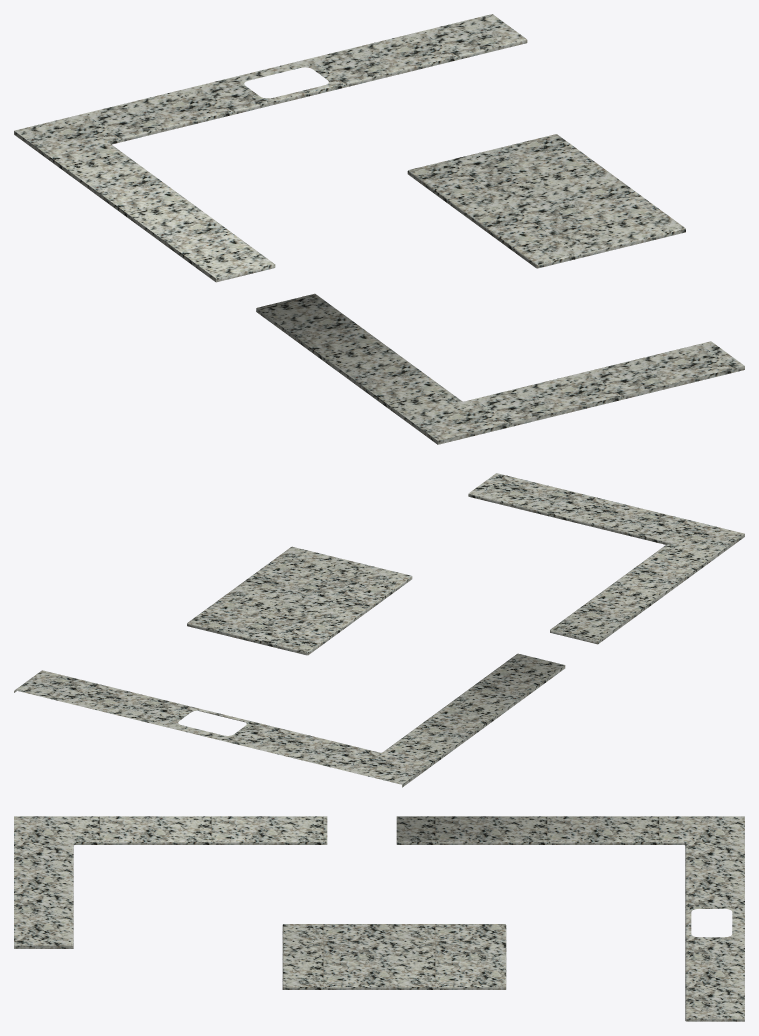
The model's file is Countertops_GraniteValleNevado.glb.
3 views of the same model, one above another, from view 1: azimuth 30°, elevation 25°; view 2: azimuth 150°, elevation 25°; view 3: azimuth 270°, elevation 25° (orthographic). The views are drawn at different scales.
Parts seen in each view (by area): view 1: Countertops_Granite Valle Nevado; view 2: Countertops_Granite Valle Nevado; view 3: Countertops_Granite Valle Nevado.
Part boxes in pixels (x1,y1,x2,y2): Countertops_Granite Valle Nevado: (14,14,744,444); Countertops_Granite Valle Nevado: (14,473,744,787); Countertops_Granite Valle Nevado: (14,816,744,1021).
Bounding box in the file's own units: 6.4 × 0.05 × 9.8.
1 material, 1 textured.
